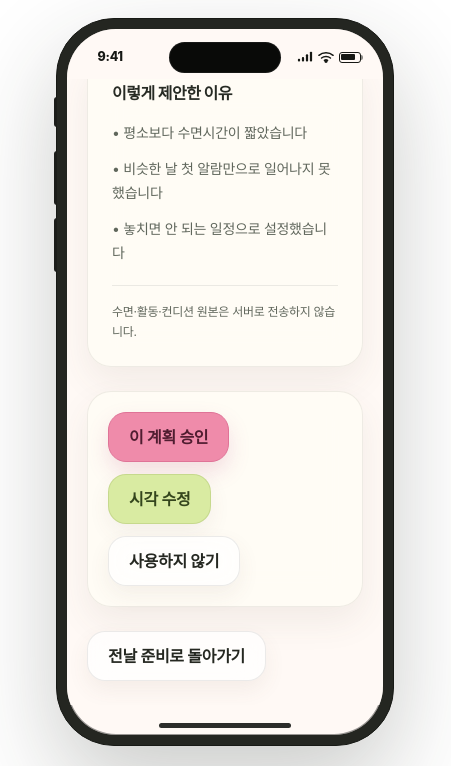
WakePlanReview › validates and saves an edited alarm window
This screenshot has width=451, height=766.
(page scrolled)
Click the button "시각 수정". click: (160, 499)
box: [108,474,211,524]
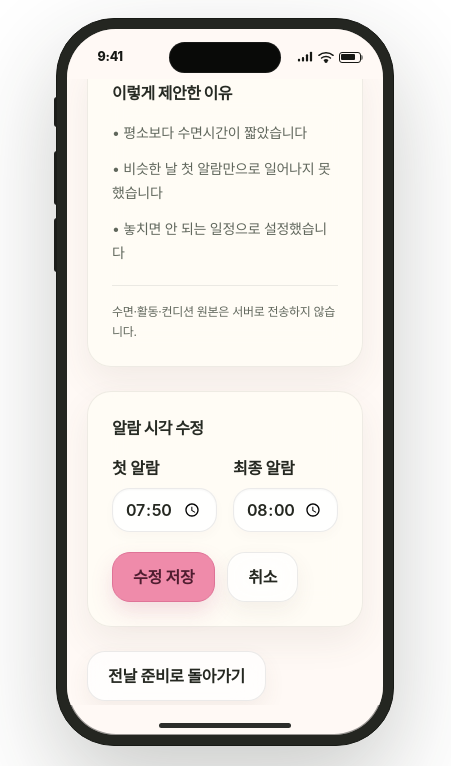
Replace the text in the time field labelled "첫 알람" with "07:45". click: (165, 510)
box: [112,488,217,532]
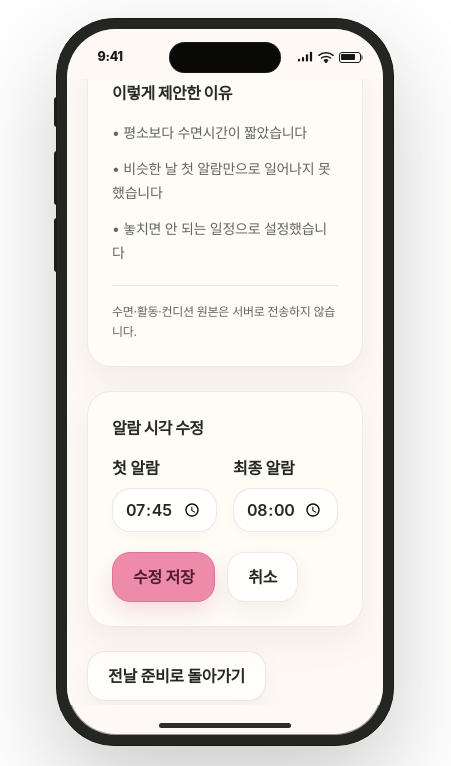
Replace the text in the time field labelled "최종 알람" with "07:55". click: (285, 510)
box: [233,488,338,532]
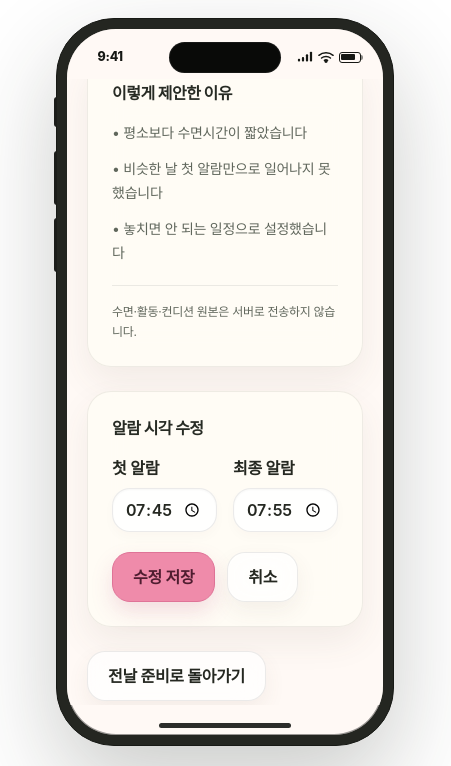
Click the button "수정 저장". click: (164, 577)
box: [112,552,215,602]
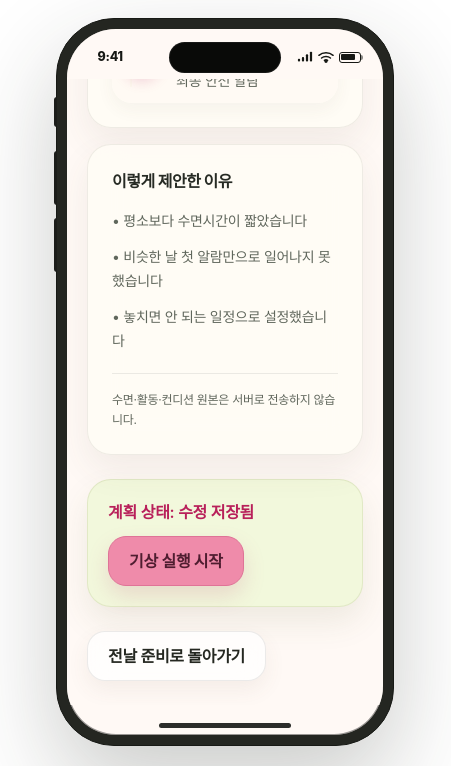
Now the text "계획 상태: 수정 저장됨" is shown, box [108,502,254,522]
